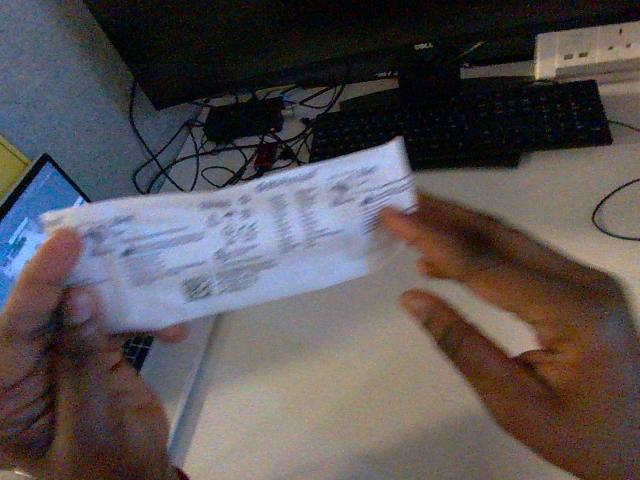syringe: (41, 138, 415, 331)
